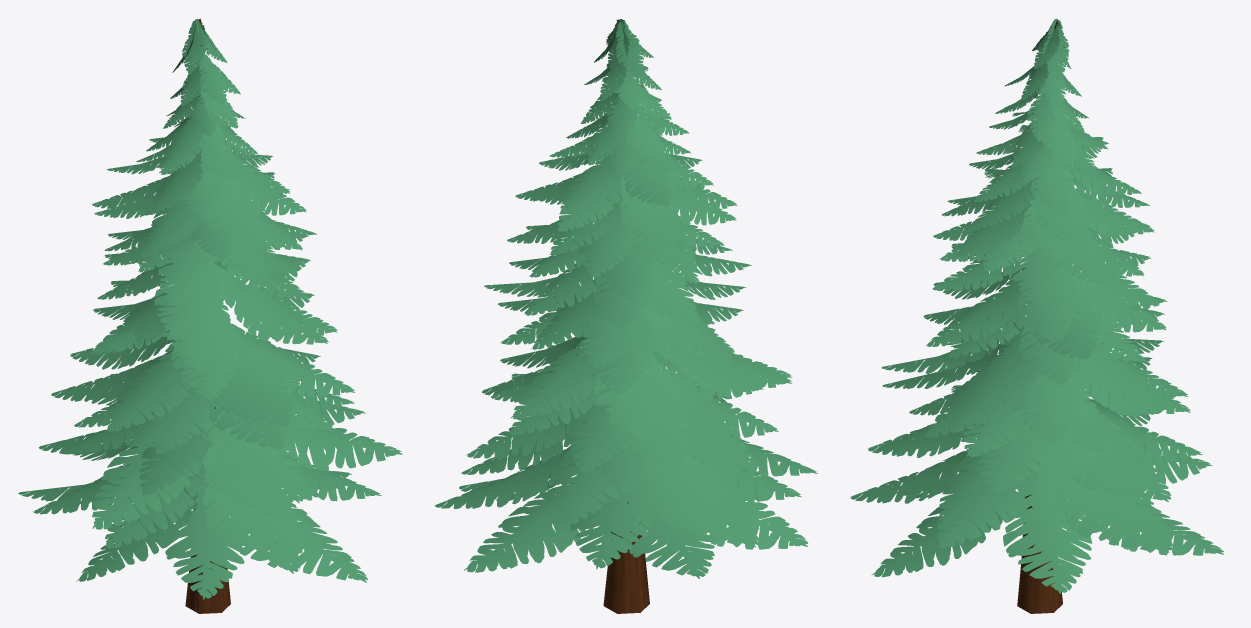
The model's file is STPine3.glb.
3 renders of one model, left to right at view 1: azimuth 30°, elevation 25°; view 2: azimuth 150°, elevation 25°; view 3: azimuth 270°, elevation 25°, orthographic. The views are drawn at different scales.
Visible parts, largest first — view 1: PineTree3; view 2: PineTree3; view 3: PineTree3.
Boxes of the visible parts, <box> form: PineTree3: <box>18,18,402,613</box>; PineTree3: <box>435,19,817,613</box>; PineTree3: <box>850,19,1223,613</box>.
Bounding box in the file's own units: 7.54 × 12.87 × 7.74.
2 materials, 2 textured.
